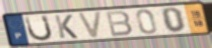0: (161, 6, 188, 34), (136, 8, 159, 35)
B: (104, 9, 134, 38)
K: (53, 14, 79, 40)
U: (24, 14, 54, 42)
V: (76, 10, 104, 40)
